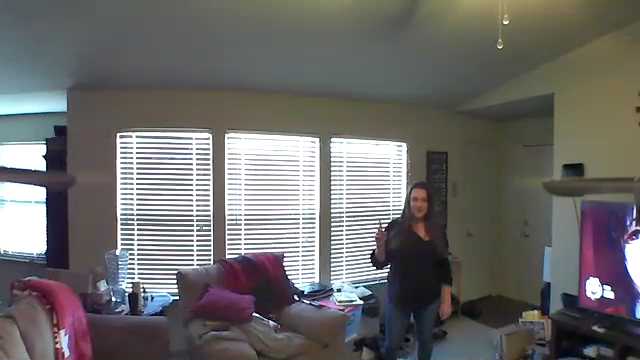up: (371, 219, 390, 248)
